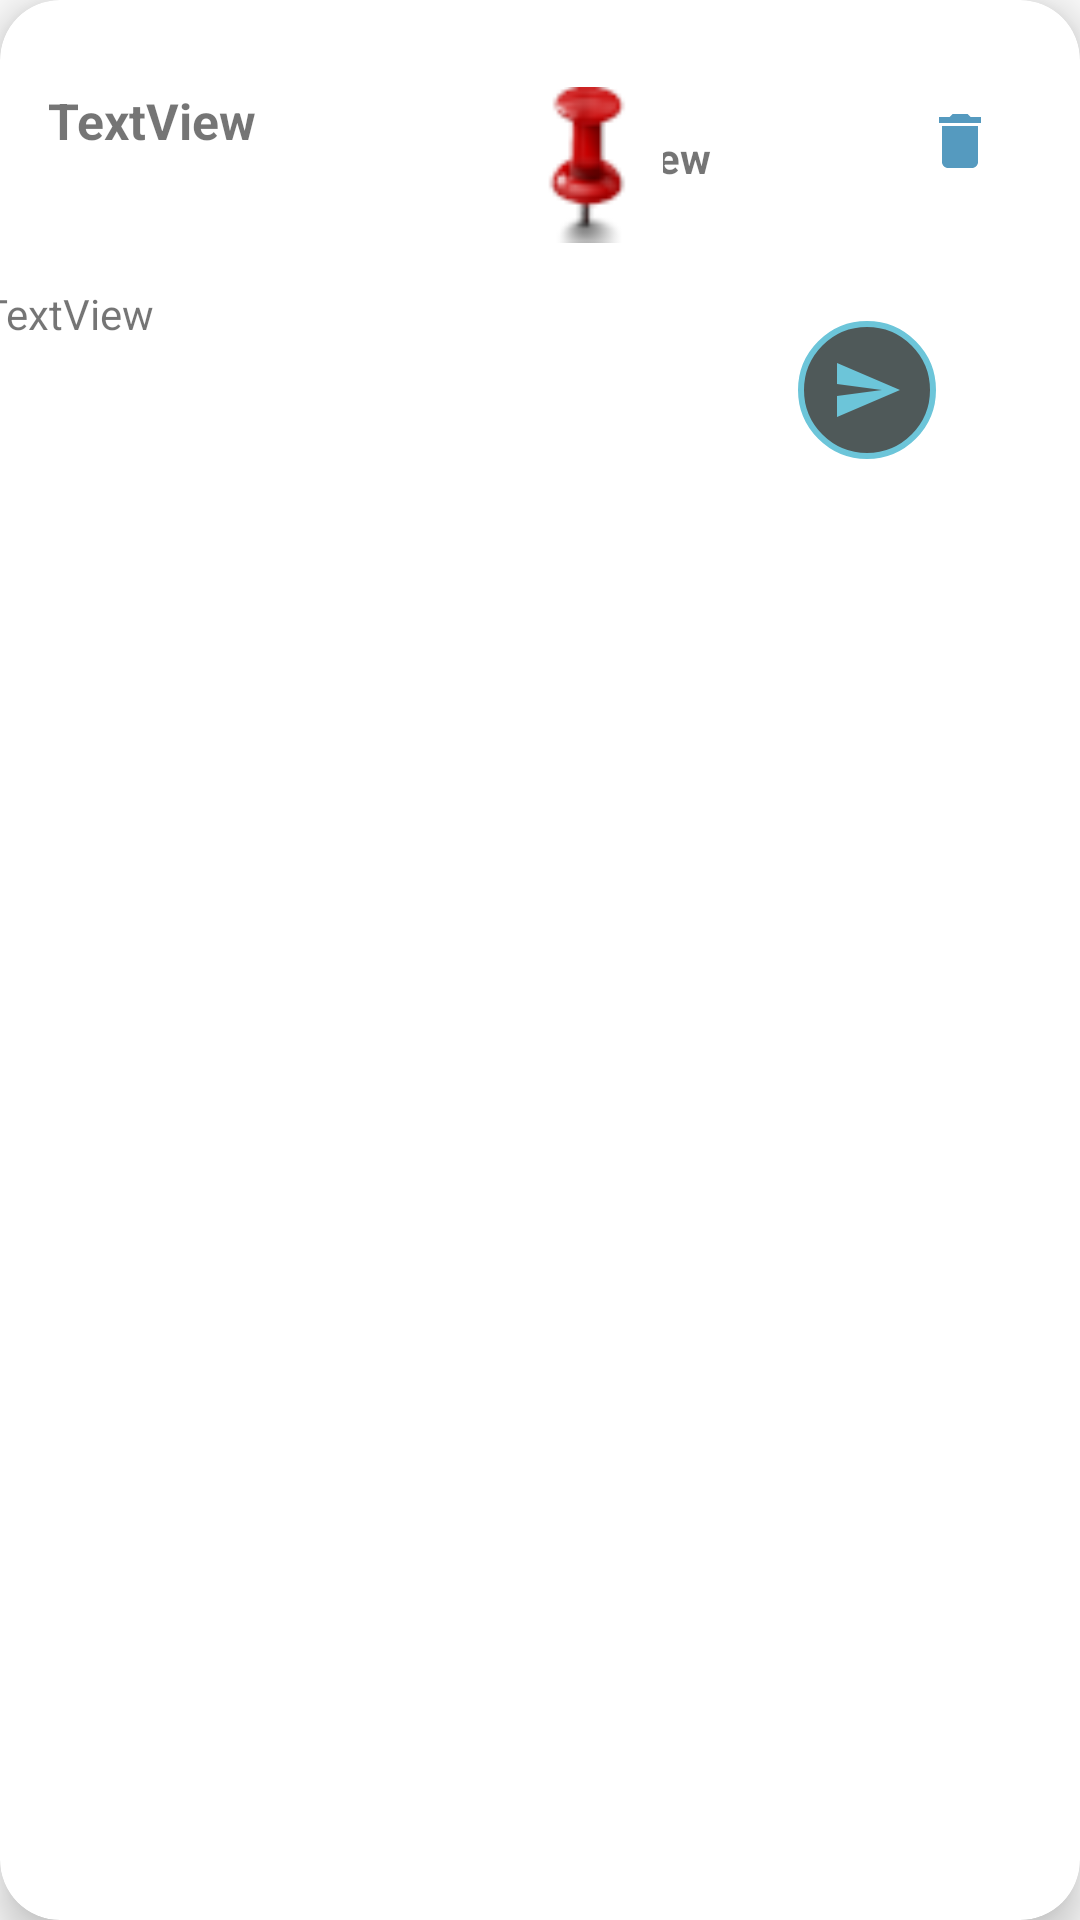

Point at icon controls on the screen. Image size 1080*1920, points as (x,y).
chincheta: (587,165)
delete: (960,141)
send: (867,390)
